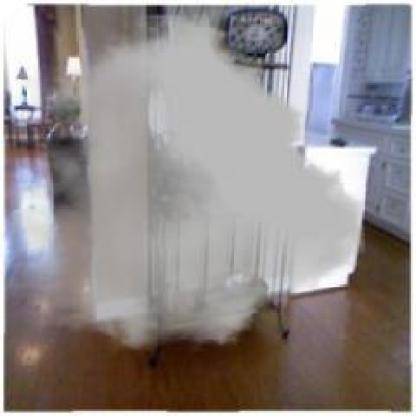Smoke: (10, 15, 364, 351)
